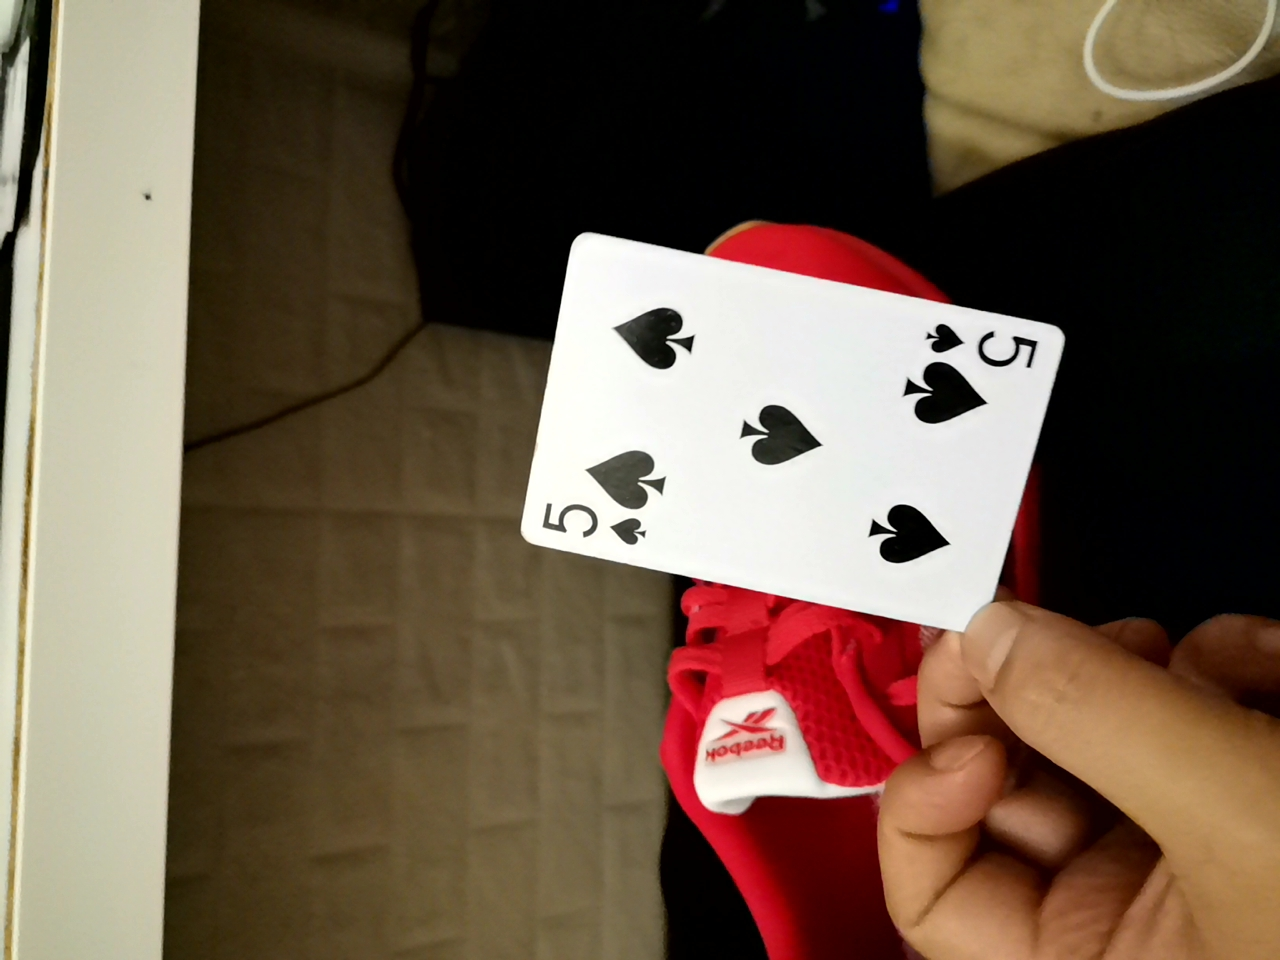ht 5: (512, 241, 1066, 639)
